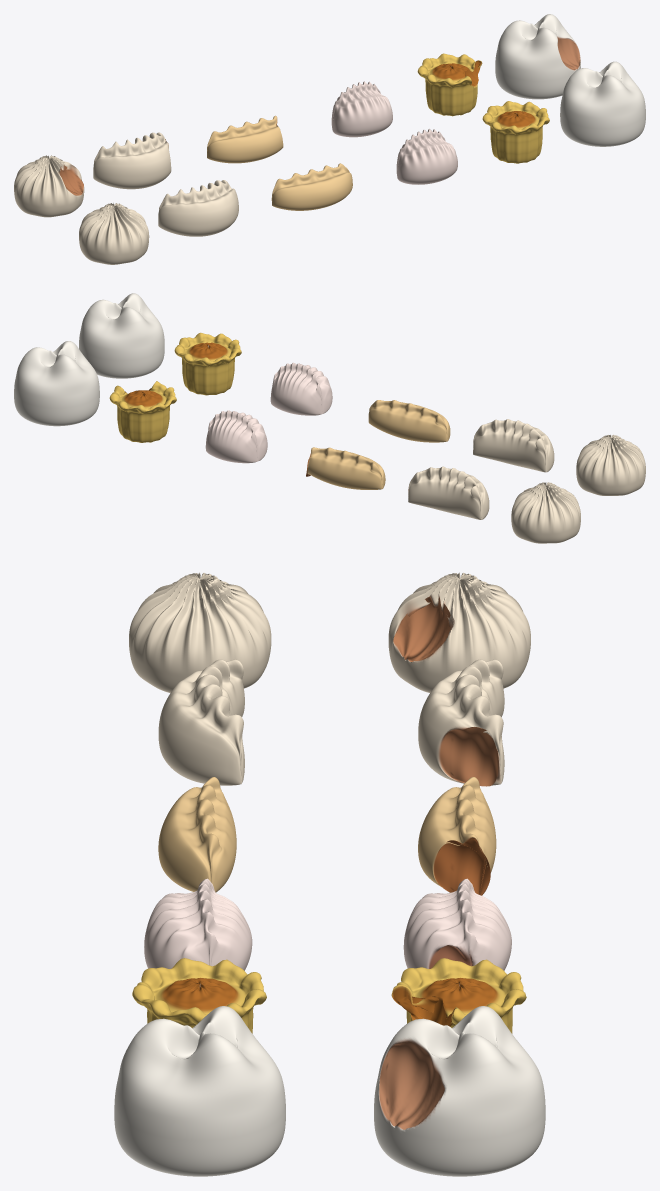
The model's file is dumplings.glb.
The picture shows the model from 3 angles, top to bottom: view 1: azimuth 30°, elevation 25°; view 2: azimuth 150°, elevation 25°; view 3: azimuth 270°, elevation 25°; orthographic projection. The views are drawn at different scales.
Parts seen in each view (by area): view 1: BaoBody, BaoBitten, XiaolongbaoBody, XiaolongbaoBitten, JiaoziBody, JiaoziBitten, SiumaiBody, SiumaiBitten, PotstickerBody, HargowBody, HargowBitten, PotstickerBitten; view 2: BaoBitten, BaoBody, XiaolongbaoBitten, XiaolongbaoBody, JiaoziBody, JiaoziBitten, SiumaiBody, SiumaiBitten, HargowBody, HargowBitten, PotstickerBody, PotstickerBitten; view 3: BaoBody, BaoBitten, XiaolongbaoBitten, XiaolongbaoBody, JiaoziBitten, JiaoziBody, HargowBitten, HargowBody, PotstickerBitten, PotstickerBody, SiumaiBitten, SiumaiBody.
Boxes of the visible parts, box(x1,y1,x2,y2) form: BaoBody: box(560, 61, 645, 146); BaoBitten: box(495, 14, 580, 99); XiaolongbaoBody: box(79, 203, 149, 264); XiaolongbaoBitten: box(14, 155, 84, 217); JiaoziBody: box(158, 180, 238, 236); JiaoziBitten: box(93, 132, 171, 189); SiumaiBody: box(482, 101, 549, 163); SiumaiBitten: box(417, 53, 482, 116); PotstickerBody: box(271, 163, 352, 210); HargowBody: box(396, 129, 457, 184); HargowBitten: box(331, 81, 392, 137); PotstickerBitten: box(207, 115, 283, 163); BaoBitten: box(14, 341, 99, 426); BaoBody: box(79, 293, 164, 378); XiaolongbaoBitten: box(511, 482, 580, 543); XiaolongbaoBody: box(576, 434, 645, 495); JiaoziBody: box(473, 419, 554, 472); JiaoziBitten: box(408, 466, 489, 519); SiumaiBody: box(174, 332, 241, 395); SiumaiBitten: box(109, 381, 176, 442); HargowBody: box(270, 362, 332, 415); HargowBitten: box(205, 410, 267, 463); PotstickerBody: box(368, 400, 450, 442); PotstickerBitten: box(306, 447, 385, 489); BaoBody: box(114, 1006, 285, 1176); BaoBitten: box(374, 1006, 545, 1176); XiaolongbaoBitten: box(388, 572, 530, 692); XiaolongbaoBody: box(129, 572, 271, 692); JiaoziBitten: box(418, 659, 504, 786); JiaoziBody: box(158, 659, 244, 785); HargowBitten: box(403, 878, 511, 986); HargowBody: box(144, 878, 252, 986); PotstickerBitten: box(418, 777, 496, 895); PotstickerBody: box(158, 777, 236, 892); SiumaiBitten: box(391, 958, 526, 1033); SiumaiBody: box(132, 958, 266, 1033).
Bounding box in the file's own units: 4.95 × 0.5568 × 1.66.
